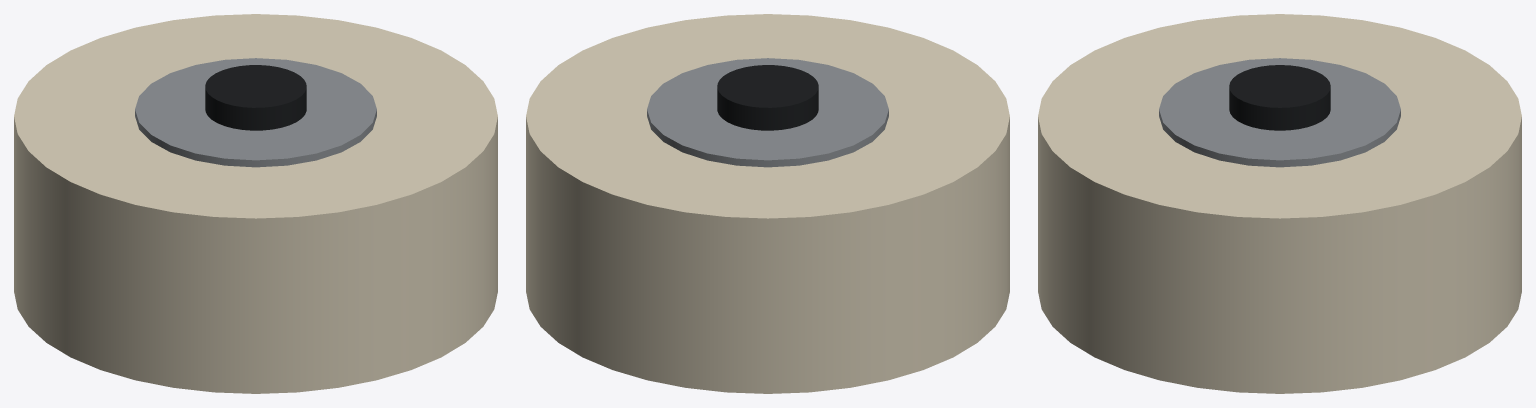
Rendered from castor_right.obj.
3 views of the same model, side by side, from view 1: azimuth 30°, elevation 25°; view 2: azimuth 150°, elevation 25°; view 3: azimuth 270°, elevation 25° (orthographic).
Parts seen in each view (by area): view 1: castor_right_tyre, castor_right_hub, castor_right_axle_1; view 2: castor_right_tyre, castor_right_hub, castor_right_axle_1; view 3: castor_right_tyre, castor_right_hub, castor_right_axle_1.
Part boxes in pixels (box(x1,y1,x2,y2)): castor_right_tyre: box(14, 14, 497, 393); castor_right_hub: box(135, 58, 376, 167); castor_right_axle_1: box(205, 65, 306, 130); castor_right_tyre: box(526, 14, 1009, 393); castor_right_hub: box(647, 58, 888, 167); castor_right_axle_1: box(717, 65, 818, 130); castor_right_tyre: box(1038, 14, 1521, 393); castor_right_hub: box(1159, 58, 1400, 167); castor_right_axle_1: box(1229, 65, 1330, 130).
Size of the model in its own units: 0.125 by 0.067 by 0.125.
